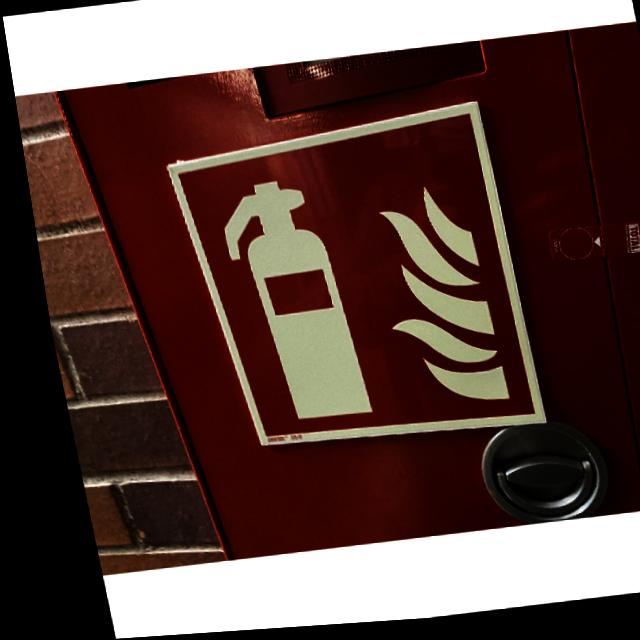fire extinguisher: (154, 107, 534, 464)
